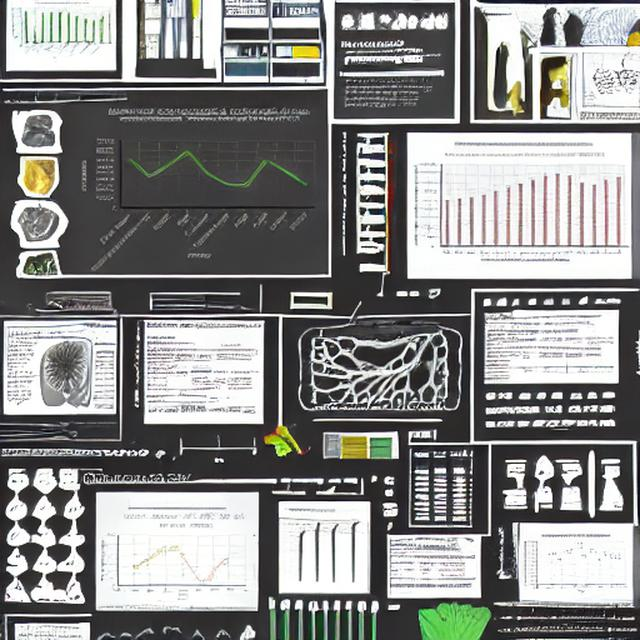Graph: (74, 102, 328, 275), (408, 148, 630, 269), (97, 510, 252, 602), (522, 532, 631, 596), (8, 0, 107, 59)
